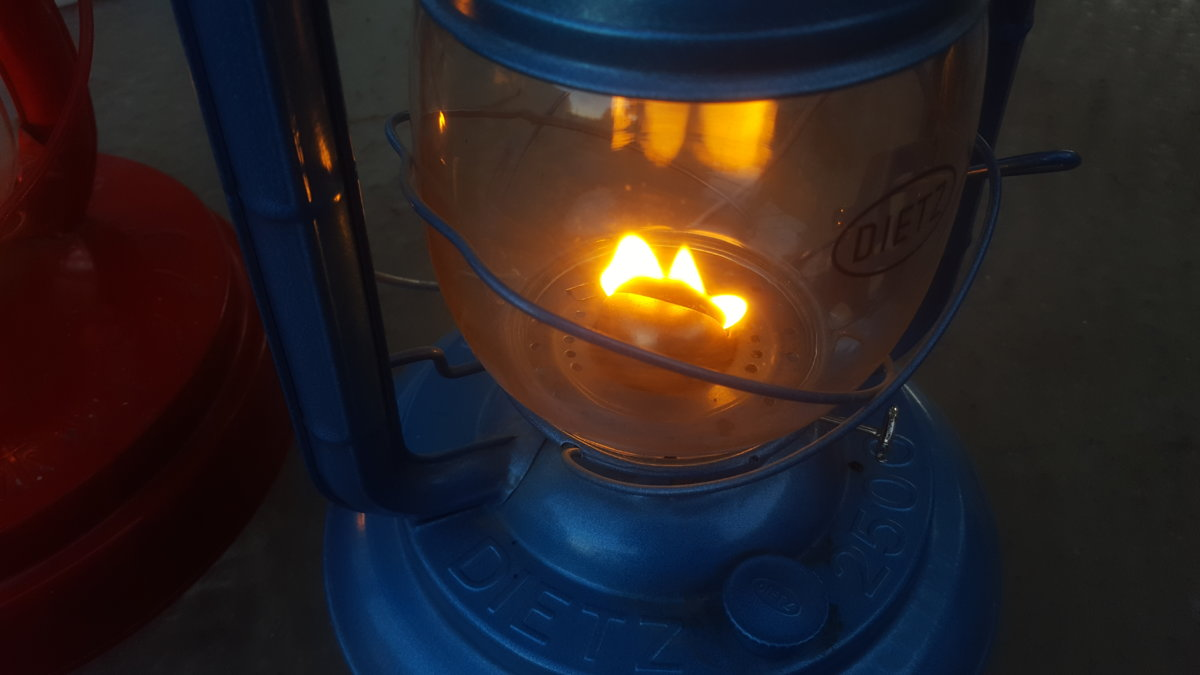Open-Flame-Hazard: (168, 0, 1088, 675)
